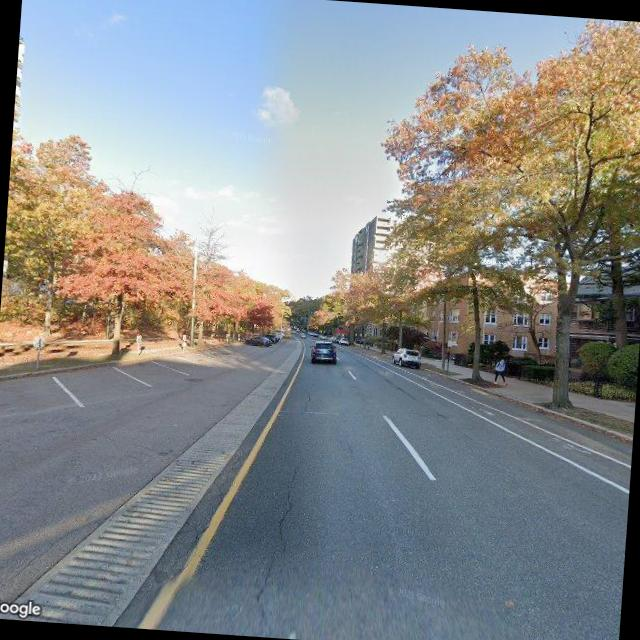pothole: (249, 458, 301, 632)
